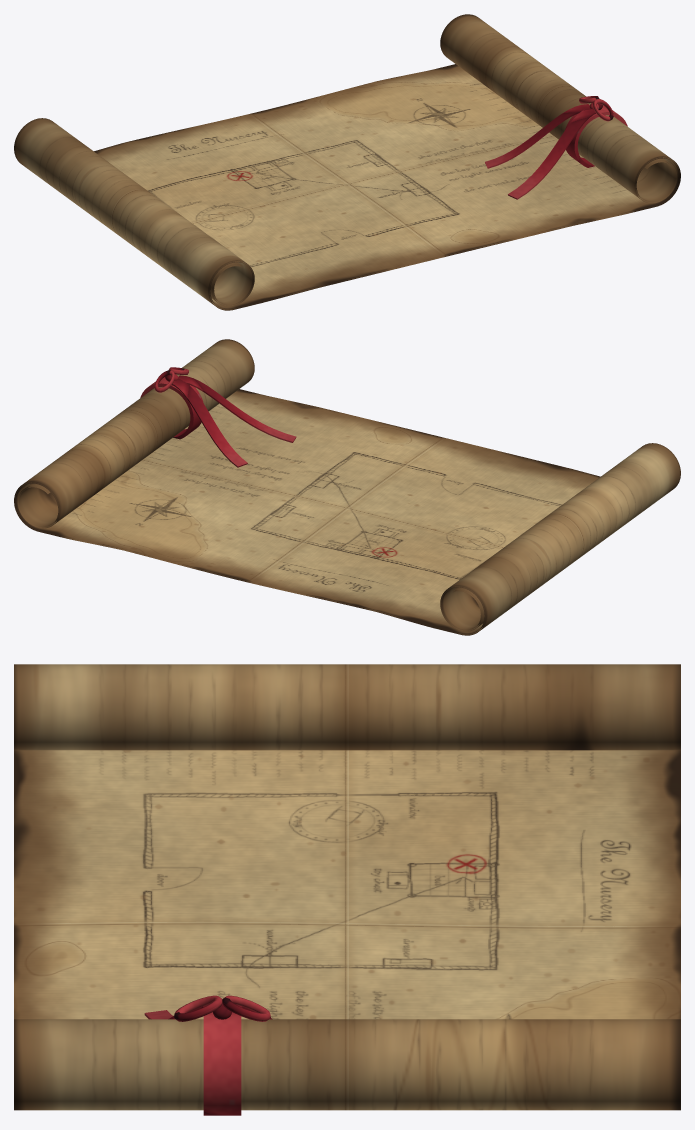
File: lib_map.obj
3 views of the same model, one above another, from view 1: azimuth 30°, elevation 25°; view 2: azimuth 150°, elevation 25°; view 3: azimuth 270°, elevation 25° (orthographic). The views are drawn at different scales.
Parts seen in each view (by area): view 1: lib_map_map_parchment, lib_map_velvet_red; view 2: lib_map_map_parchment, lib_map_velvet_red; view 3: lib_map_map_parchment, lib_map_velvet_red.
Part boxes in pixels (<box>): lib_map_map_parchment: <box>14,14,680,310</box>; lib_map_velvet_red: <box>485,96,627,199</box>; lib_map_map_parchment: <box>14,339,680,635</box>; lib_map_velvet_red: <box>140,367,296,467</box>; lib_map_map_parchment: <box>14,664,680,1110</box>; lib_map_velvet_red: <box>144,995,272,1115</box>.
Bounding box in the file's own units: 0.45 × 0.06 × 0.32.
Materials: 2 (2 with a texture image).
